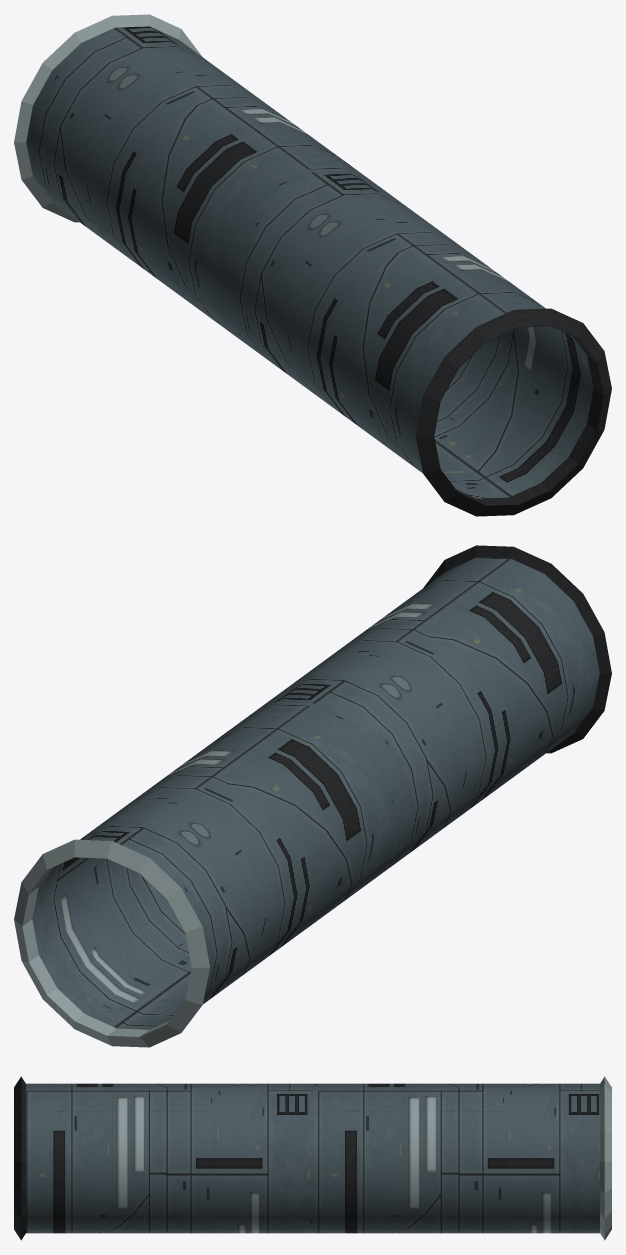
Rendered from hallway_10.obj.
The picture shows the model from 3 angles, top to bottom: view 1: azimuth 30°, elevation 25°; view 2: azimuth 150°, elevation 25°; view 3: azimuth 270°, elevation 25°; orthographic projection. The views are drawn at different scales.
Parts seen in each view (by area): view 1: Torus.001; view 2: Torus.001; view 3: Torus.001.
Part boxes in pixels (left/top/right/bottom): Torus.001: left=14, top=14, right=611, bottom=516; Torus.001: left=14, top=545, right=611, bottom=1047; Torus.001: left=14, top=1076, right=611, bottom=1240.
Size of the model in its own units: 22 by 22 by 80.
Materials: 1 (1 with a texture image).
